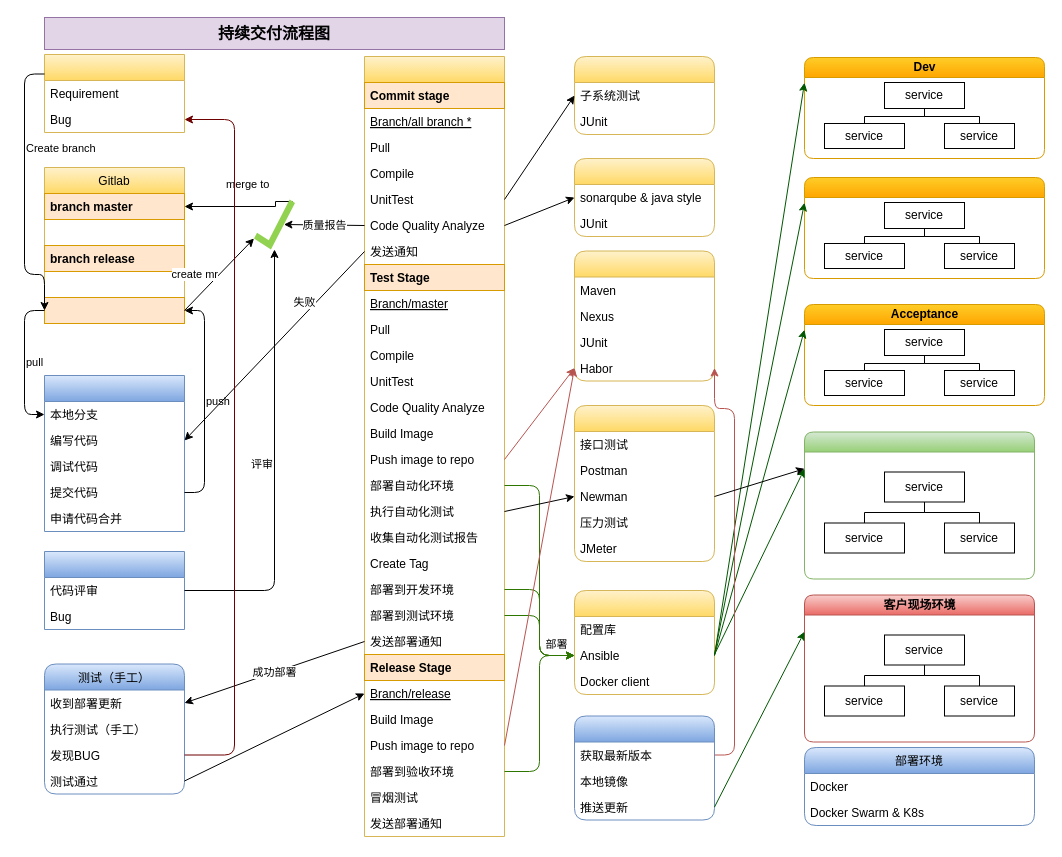
The diagram is 1062 pixels wide and 857 high, and some of its shapes have lost their labels. The shapes that lost their labels are listed below. From the top down, each one's box as (x1, y1, x2, y2) in pixels, then its label:
(44, 54, 184, 132): Issue
(574, 56, 714, 134): 单元测试
(574, 158, 714, 236): Code level quality
(254, 199, 294, 249): MR
(804, 176, 1044, 278): Test
(44, 296, 184, 324): branch feature*
(574, 250, 714, 381): 部件发布库
(44, 374, 184, 532): developer
(364, 56, 504, 836): Jenkins
(574, 404, 714, 562): 自动化测试
(804, 431, 1034, 579): 动态环境
(44, 550, 184, 630): 专家
(574, 590, 714, 694): 配置和部署
(574, 715, 714, 820): 运维专家
